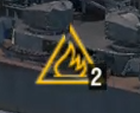2fire: (33, 53, 107, 91)
